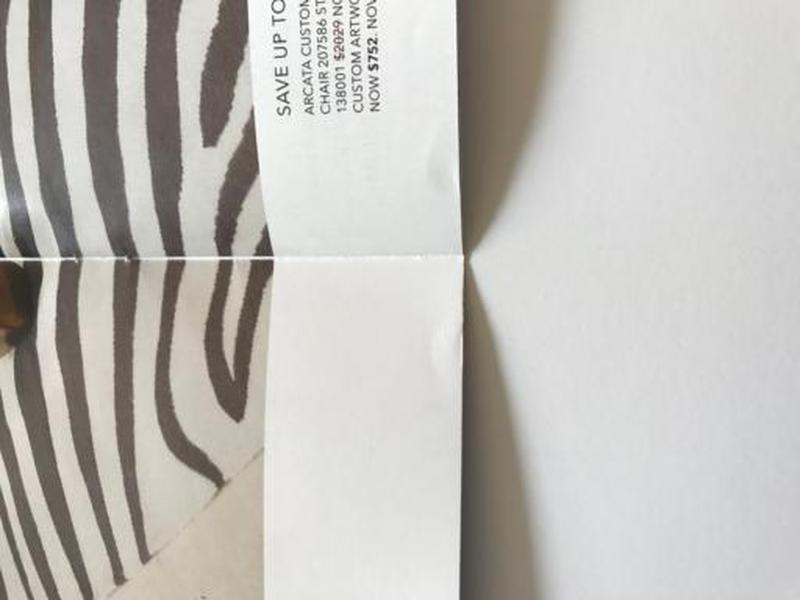paper: (2, 1, 470, 600)
